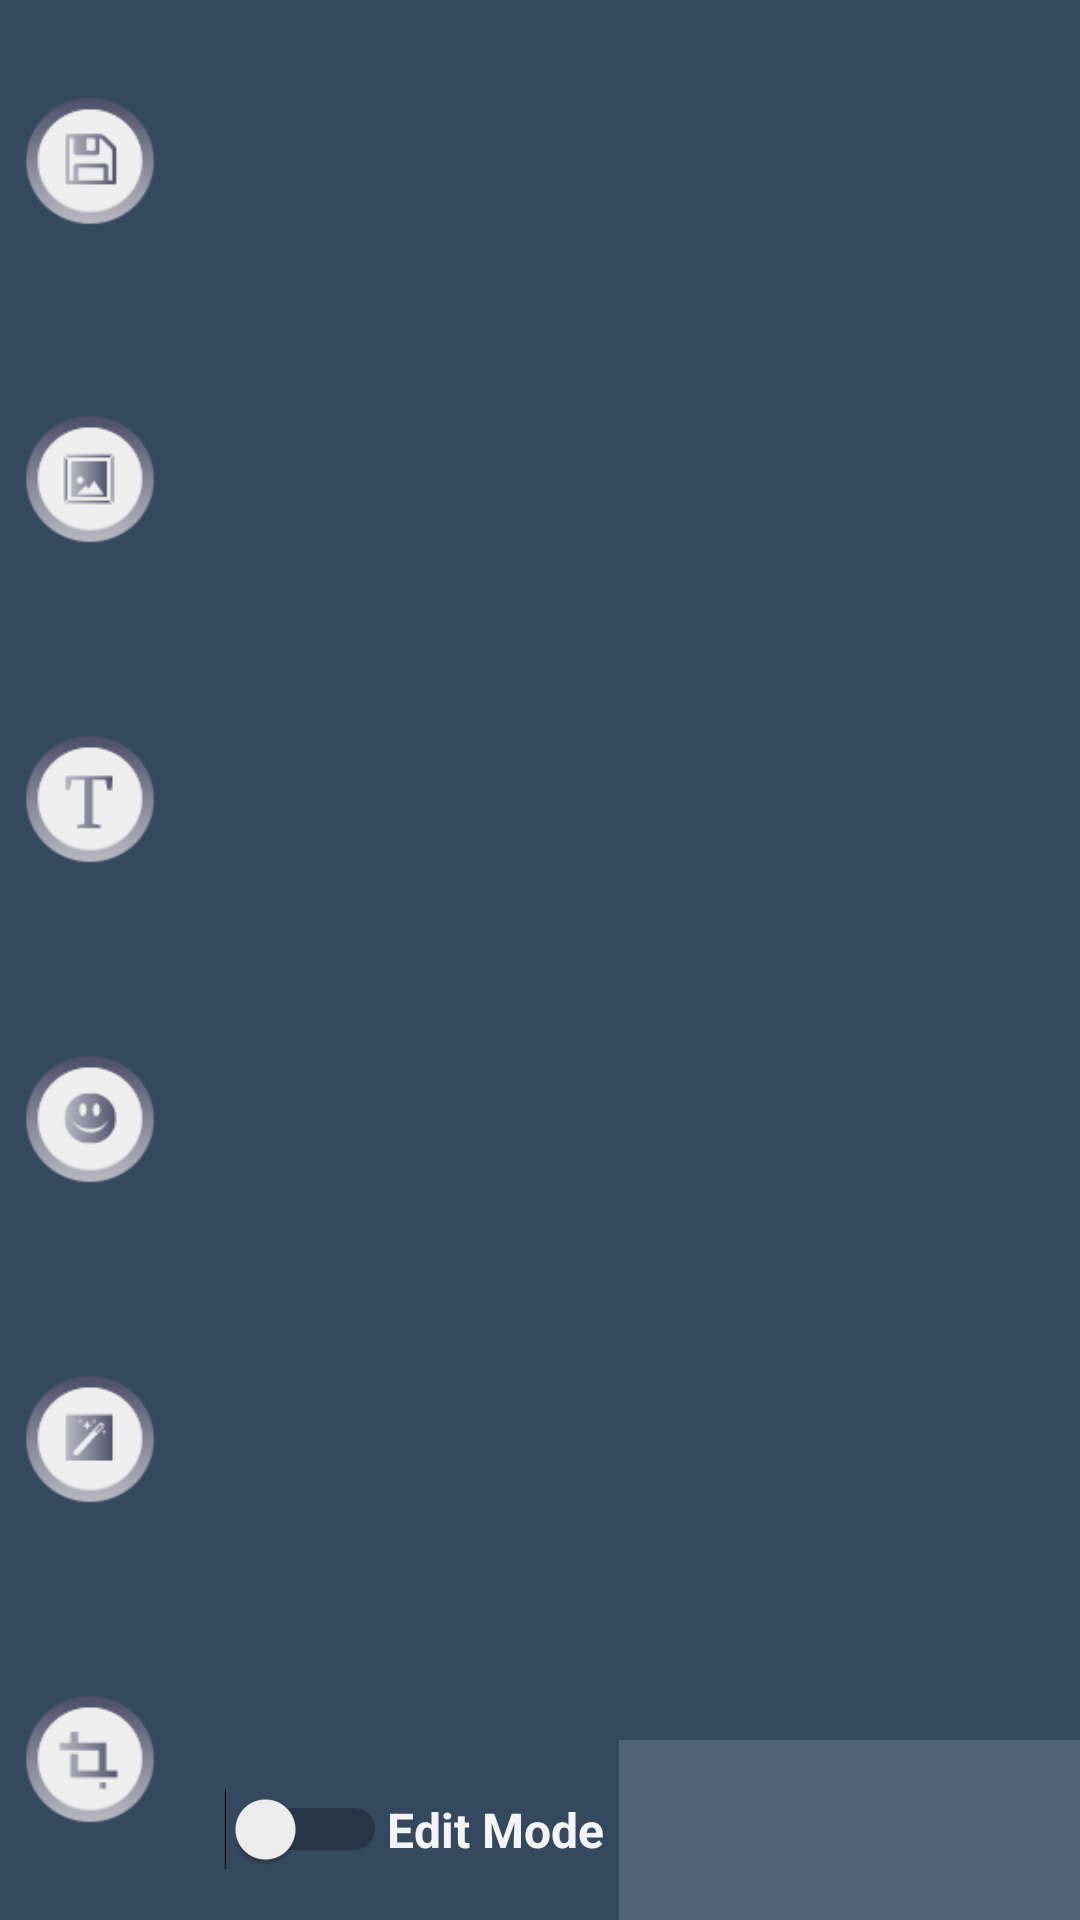

Icons on this 1080px x 1920px Android screen, each with its box as (x1=x1, y1=y1, x2=x2, y2=y2):
add text: (x1=26, y1=737, x2=154, y2=862)
crop: (x1=26, y1=1697, x2=154, y2=1822)
emoticon: (x1=26, y1=1057, x2=154, y2=1182)
filter: (x1=26, y1=1377, x2=154, y2=1502)
save: (x1=26, y1=99, x2=154, y2=224)
